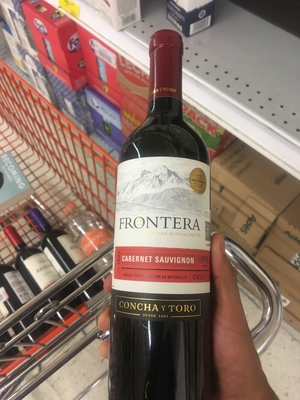frontera cabernet sauvignon: (113, 51, 212, 400)
